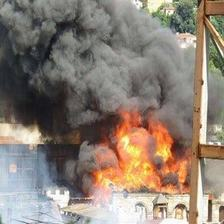fire: (43, 5, 190, 192), (86, 181, 111, 208)
